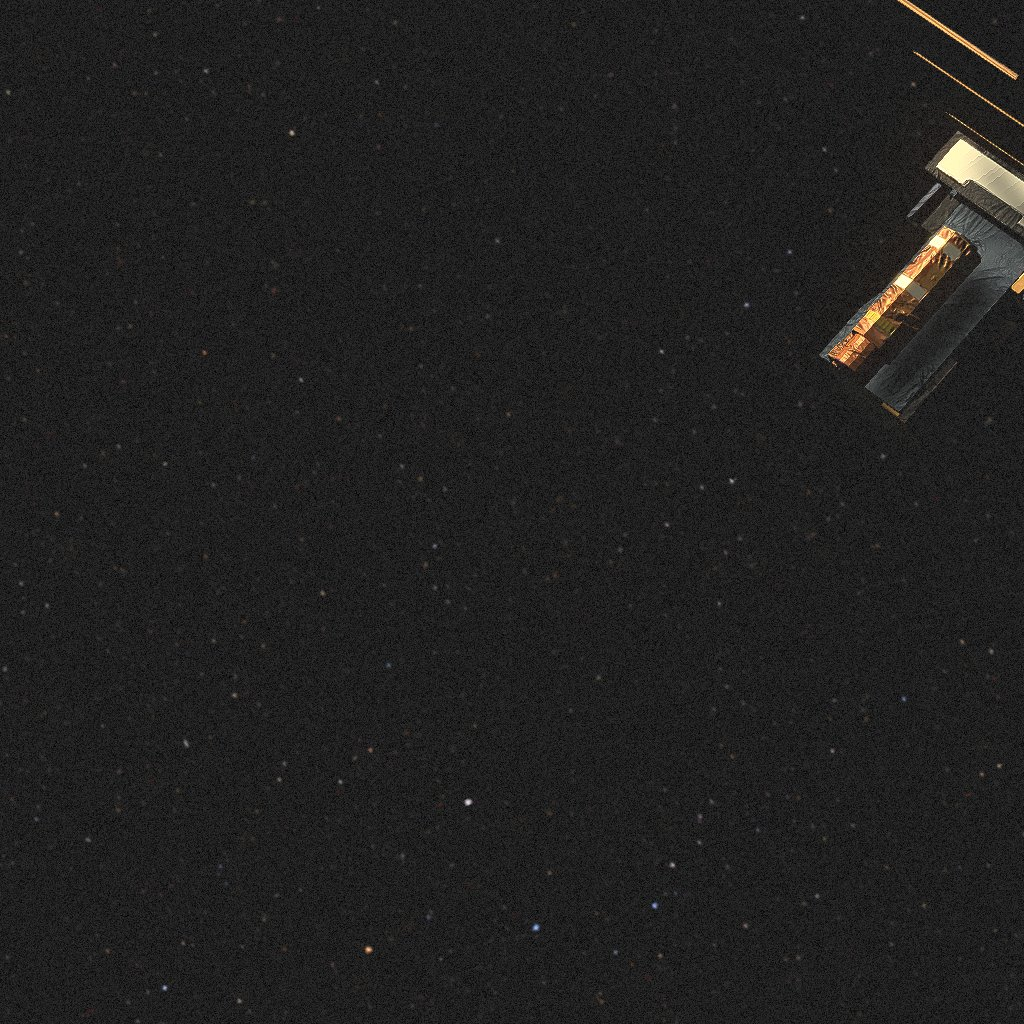soho: (819, 0, 1024, 458)
